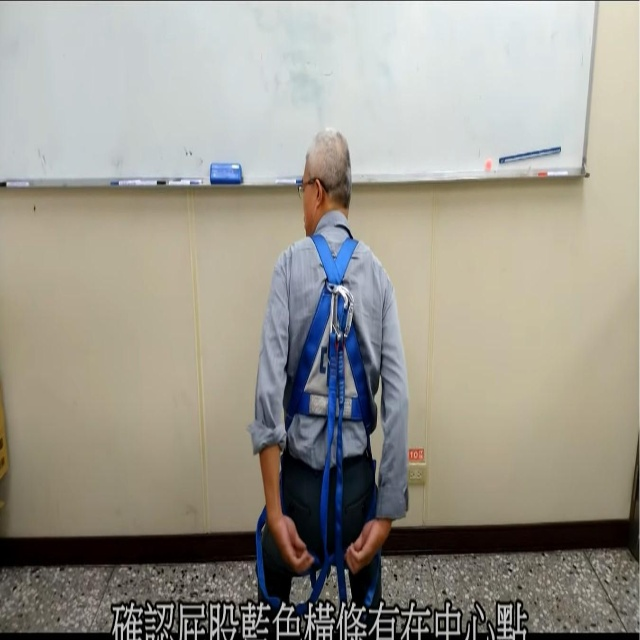Arnes_seguridad: (253, 235, 385, 613)
